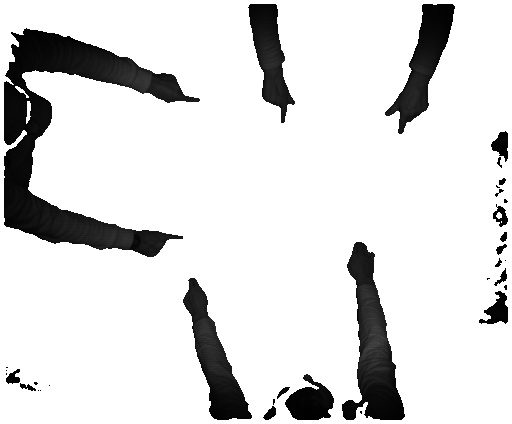hand: (384, 88, 431, 135), (258, 76, 295, 127), (136, 224, 183, 263), (176, 272, 214, 319), (153, 74, 199, 103), (344, 240, 375, 283)
